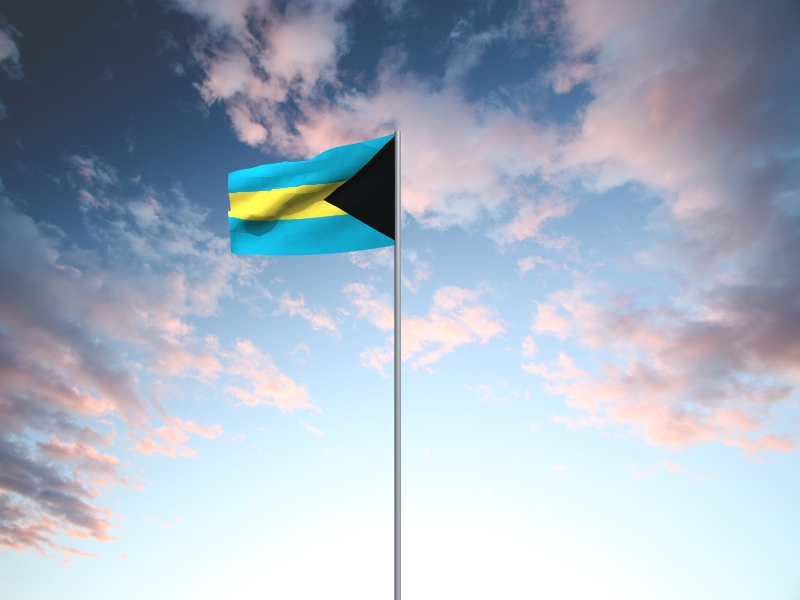bs: (227, 134, 395, 257)
